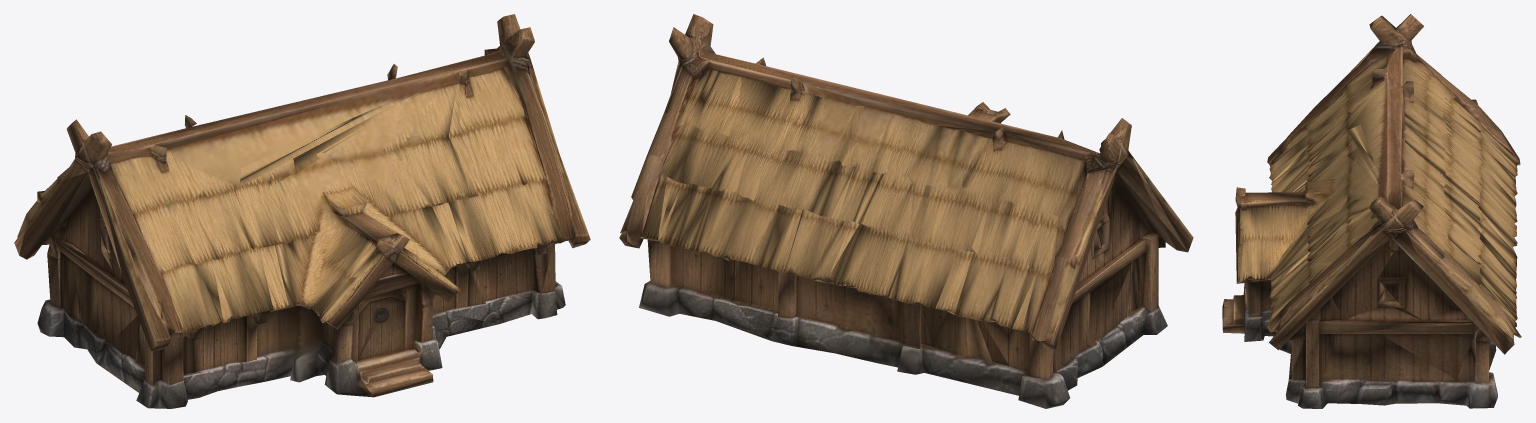
The model's file is house-homestead.glb.
The picture shows the model from 3 angles, left to right: view 1: azimuth 30°, elevation 25°; view 2: azimuth 150°, elevation 25°; view 3: azimuth 270°, elevation 25°; orthographic projection. The views are drawn at different scales.
Visible parts, largest first — view 1: Mesh_0; view 2: Mesh_0; view 3: Mesh_0.
Boxes of the visible parts, left/top/right/bottom form: Mesh_0: left=14, top=14, right=590, bottom=408; Mesh_0: left=619, top=14, right=1193, bottom=408; Mesh_0: left=1222, top=14, right=1521, bottom=408.
Size of the model in its own units: 9.47 by 5 by 6.37.
Materials: 1 (1 with a texture image).
